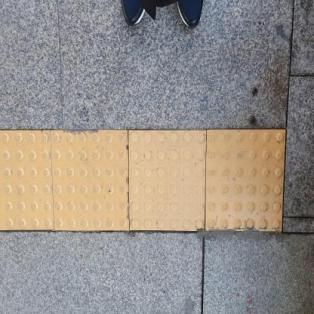Podoctatil: (0, 97, 291, 251)
